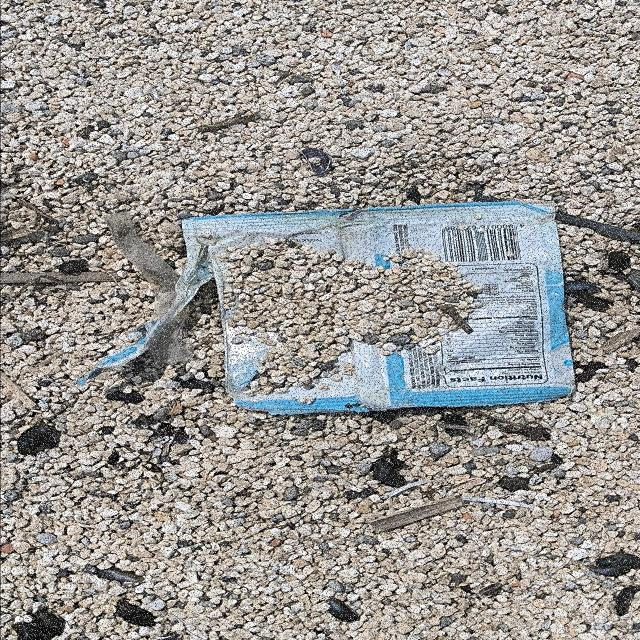plastic_waste: (182, 202, 576, 415)
